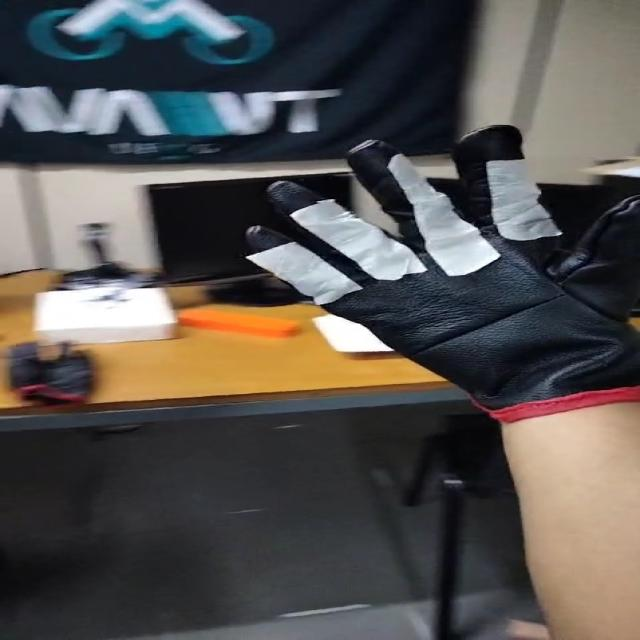Gloves: (237, 128, 640, 421)
